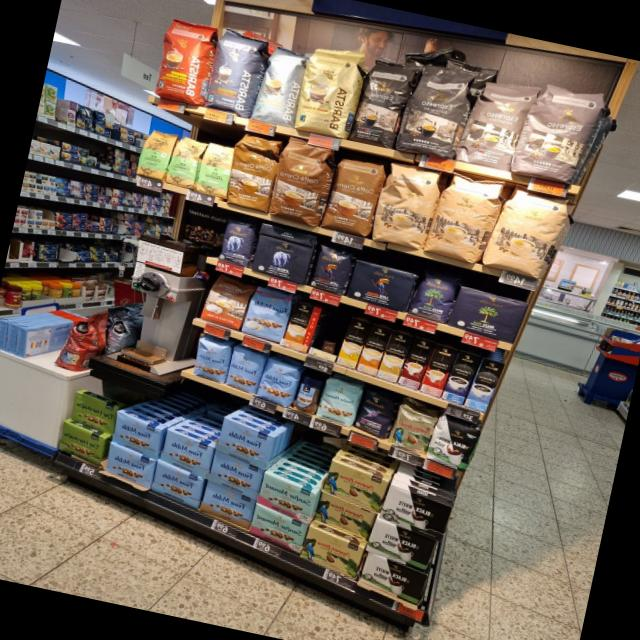AB Bohne: (216, 217, 256, 268)
AB Gemahlen: (250, 234, 314, 285)
Athiopien Bohne: (133, 126, 178, 181)
Athiopien Gemahlen: (193, 140, 235, 200), (162, 134, 207, 188)
BM Bohne: (405, 265, 462, 325)
BM Gemahlen: (444, 285, 530, 343)
BW Bohne: (422, 414, 484, 473)
BW Gemahlen: (377, 483, 453, 541), (363, 516, 437, 573), (357, 551, 429, 606)
Barista CB: (292, 41, 366, 140)
Barista CC: (251, 42, 309, 128)
Barista Espresso: (202, 27, 266, 116)
Barista Kolumbien: (150, 16, 218, 106)
C Fino Bohne: (351, 386, 398, 441)
CC Mild: (479, 185, 571, 279), (421, 172, 506, 264), (368, 160, 442, 251)
CC Vollmundig: (197, 270, 254, 331)
CC Vollmundig 36 Pads: (266, 138, 333, 228), (320, 153, 386, 238), (223, 130, 281, 212)
Colombia BB Bohne: (383, 402, 438, 457)
Colombia BB Gemahlen: (299, 523, 365, 580), (321, 458, 389, 513), (312, 490, 377, 541)
Empty Shelf: (311, 307, 350, 356)
Espresso Aromatisch: (452, 79, 540, 169)
Espresso Kraftig: (347, 56, 416, 148)
Espresso M Art: (507, 83, 607, 184)
Espresso S Art: (392, 63, 475, 158)
FM 36 Pads: (238, 283, 294, 345)
FM Bohne: (254, 355, 300, 408), (222, 343, 265, 396), (190, 335, 232, 385)
FM Gemahlen: (213, 416, 274, 471), (206, 449, 263, 500), (198, 479, 255, 530), (149, 458, 204, 509), (158, 428, 213, 479), (109, 409, 162, 460), (103, 440, 156, 489)
FM Instant: (288, 370, 325, 415)
Herzhatfe Mundig: (56, 418, 106, 466), (68, 390, 117, 435)
LG Bohne: (307, 242, 353, 296)
LG Gemahlen: (344, 259, 417, 314)
SM Bohne: (313, 374, 363, 429)
SM Gemahlen: (255, 469, 316, 525), (246, 501, 308, 555)
Simo CCMild bigpack: (336, 317, 371, 368)
Simo CCVollmundig: (281, 299, 322, 352)
Simo CCVollmundig bigpack: (356, 324, 391, 375)
Simo Decaff: (376, 329, 413, 382)
Simo Es Brazil: (419, 343, 458, 397)
Simo Es Caramel: (398, 335, 434, 390)
Simo Es Kraft: (440, 350, 481, 404)
Simo Es Vanilla: (463, 357, 506, 412)
